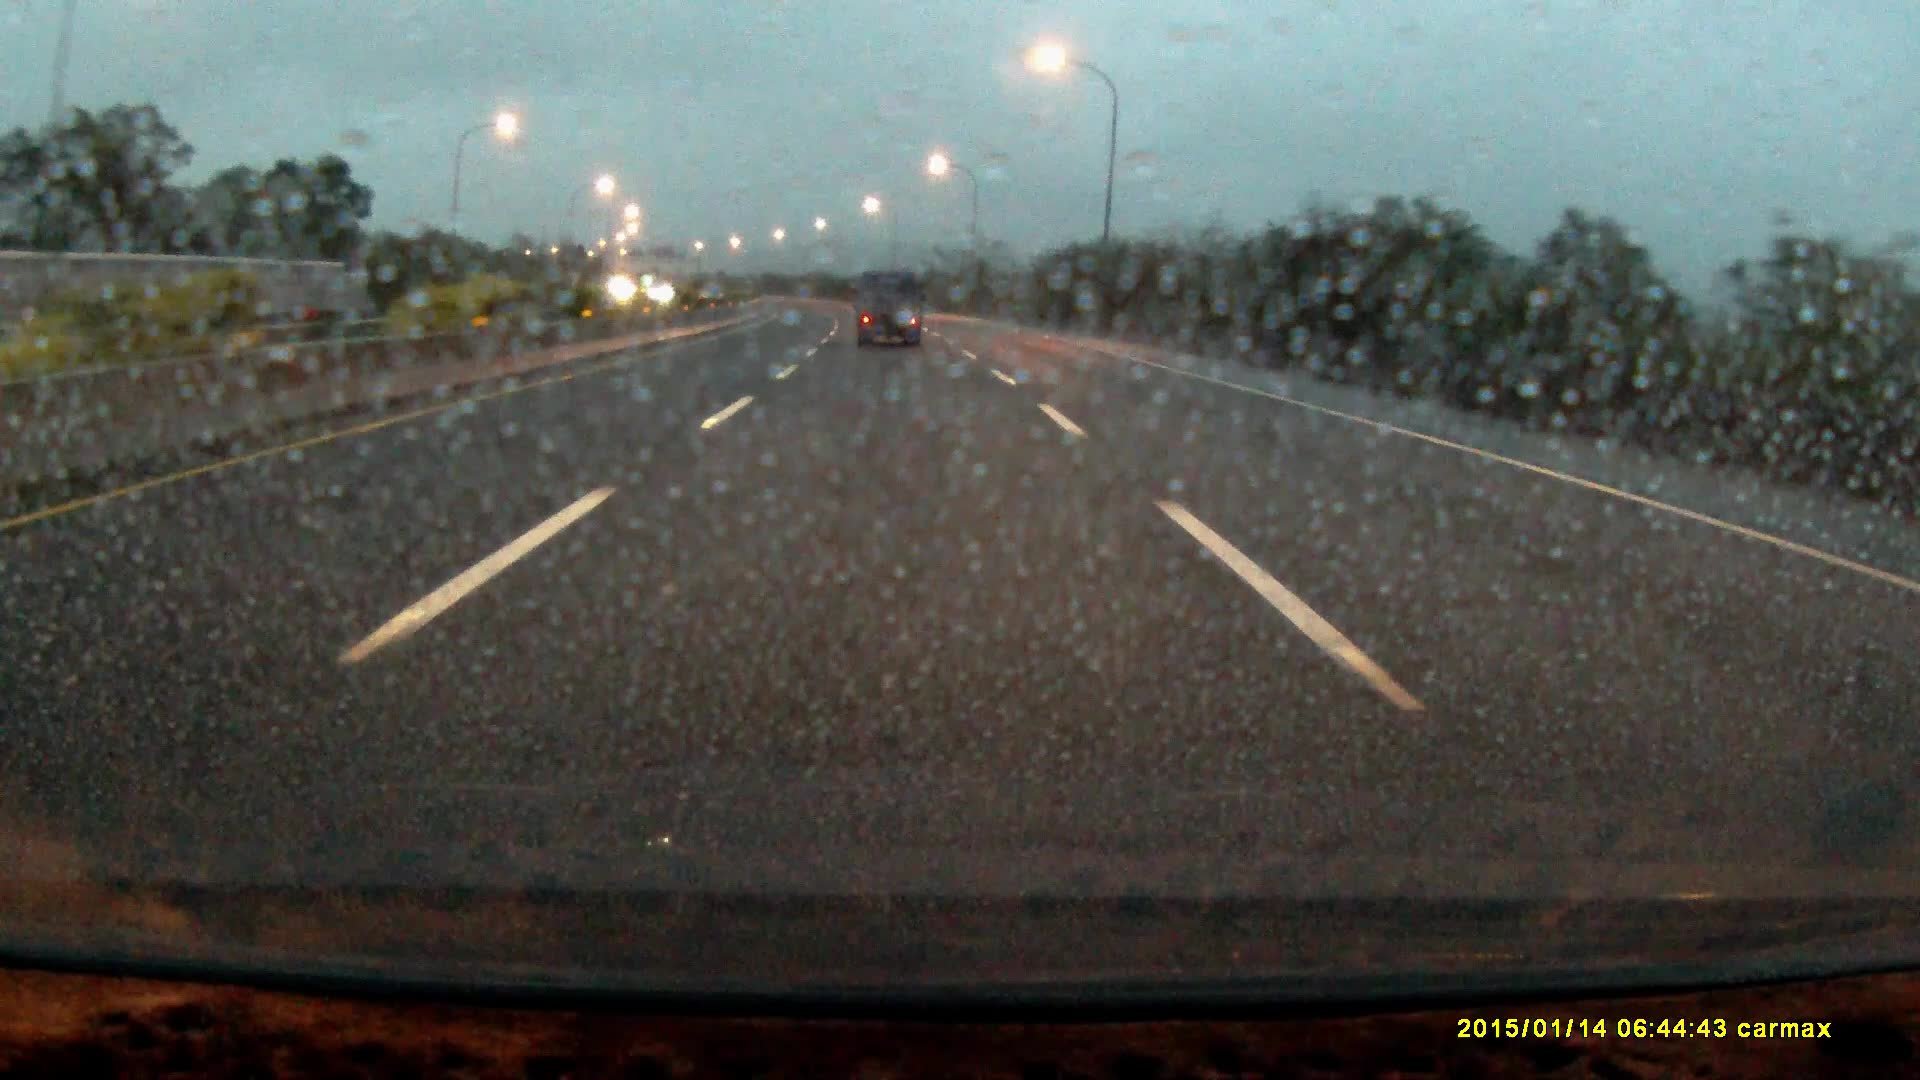vehicle: (855, 270, 923, 352)
